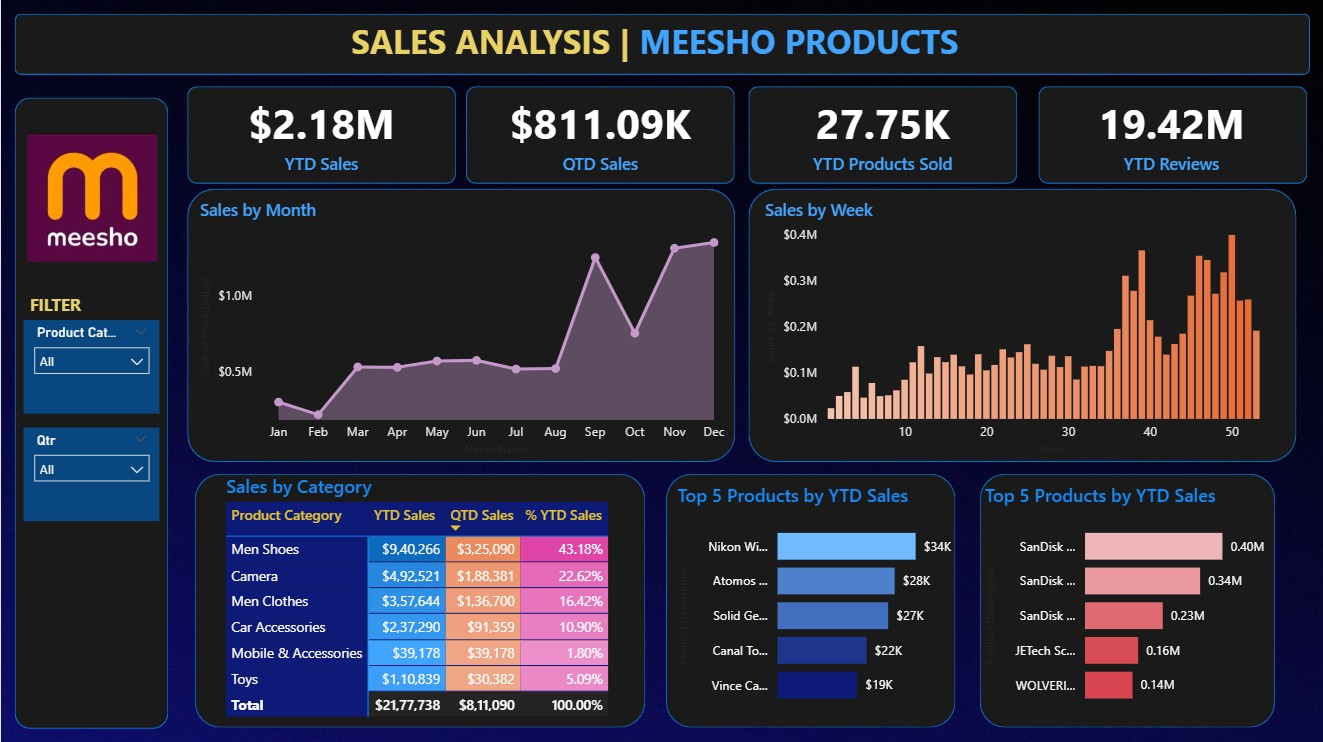

What the dashboard file says about the page in this screenshot:
{"tool":"powerbi","page":{"name":"Page 1","canvas":[1280,720],"ordinal":0},"visuals":[{"type":"shape","box":[179.6,82.7,259.4,94.1],"z":0,"group":"g1"},{"type":"shape","box":[13.7,13.7,1250.1,59],"z":0},{"type":"shape","box":[449,82.7,259.4,94.1],"z":1000,"group":"g1"},{"type":"textbox","box":[333,13.3,640.6,59.1],"z":1000},{"type":"card","fields":{"Values":["Amazon_Data.YTD Sales"]},"box":[186.7,89.1,245.2,80.1],"z":2000,"group":"g1"},{"type":"shape","box":[13.7,94.7,148.2,609.3],"z":2000},{"type":"shape","box":[721.2,82.7,259.4,94.1],"z":3000,"group":"g1"},{"type":"group","id":"g1","title":"Group 1","box":[179.6,82.7,1080.4,94.1],"z":3000},{"type":"shape","box":[1000.6,82.7,259.4,94.1],"z":4000,"group":"g1"},{"type":"shape","box":[179.6,182.4,528.8,263.7],"z":4000},{"type":"card","fields":{"Values":["Amazon_Data.QTD Sales"]},"box":[456.1,89.1,245.2,80.1],"z":5000,"group":"g1"},{"type":"areaChart","title":"Sales by Month","fields":{"Category":["Date Table.Month Name"],"Y":["Sum(Amazon_Data.Price(Dollar))"]},"box":[186.7,191,521.7,253.7],"z":5000},{"type":"card","fields":{"Values":["Amazon_Data.YTD Products Sold"]},"box":[728.4,89.1,245.2,80.1],"z":6000,"group":"g1"},{"type":"shape","box":[721.2,182.4,528.8,263.7],"z":6000},{"type":"card","fields":{"Values":["Amazon_Data.YTD Reviews"]},"box":[1007.8,89.1,245.2,80.1],"z":7000,"group":"g1"},{"type":"columnChart","title":"Sales by Week","fields":{"Category":["Date Table.Week"],"Y":["Sum(Amazon_Data.Price(Dollar))"]},"box":[732.7,191,507.4,253.7],"z":7000},{"type":"shape","box":[186.7,457.6,434.7,245.2],"z":8000},{"type":"pivotTable","title":"Sales by Category","fields":{"Rows":["Amazon_Data.Product Category"],"Values":["Amazon_Data.YTD Sales1","Amazon_Data.QTD Sales","Amazon_Data.YTD Sales"]},"box":[212.4,457.6,400.5,245.2],"z":9000},{"type":"shape","box":[641.4,457.6,279.4,245.2],"z":10000},{"type":"shape","box":[945,457.6,285.1,245.2],"z":11000},{"type":"clusteredBarChart","title":"Top 5 Products by YTD Sales","fields":{"Category":["Amazon_Data.Product Description"],"Y":["Amazon_Data.YTD Sales"]},"box":[647.9,465.7,284.7,228],"z":12000},{"type":"clusteredBarChart","title":"Top 5 Products by YTD Sales","fields":{"Category":["Amazon_Data.Product Description"],"Y":["Amazon_Data.YTD Reviews"]},"box":[944.6,465.7,284.7,228],"z":13000},{"type":"slicer","fields":{"Values":["Amazon_Data.Product Category"]},"box":[21.7,308.8,131.5,90.5],"z":14000},{"type":"slicer","fields":{"Values":["Date Table.Qtr"]},"box":[21.7,412.6,131.5,90.5],"z":15000},{"type":"textbox","box":[22.9,277.5,98.9,31.4],"z":17000},{"type":"image","box":[20.5,123.1,135.1,135.1],"z":17001}]}

Visuals, with their boxes in screenshot pixels (x1, y1, x2, y2), scaled from the page's 1280x720 canvas onto the 1323x742 screenshot:
shape: [186,85,454,182]
shape: [14,14,1306,75]
shape: [464,85,732,182]
textbox: [344,14,1006,75]
card - Amazon_Data.YTD Sales: [193,92,446,174]
shape: [14,98,167,726]
shape: [745,85,1014,182]
"Group 1" group: [186,85,1302,182]
shape: [1034,85,1302,182]
shape: [186,188,732,460]
card - Amazon_Data.QTD Sales: [471,92,725,174]
"Sales by Month" areaChart: [193,197,732,458]
card - Amazon_Data.YTD Products Sold: [753,92,1006,174]
shape: [745,188,1292,460]
card - Amazon_Data.YTD Reviews: [1042,92,1295,174]
"Sales by Week" columnChart: [757,197,1282,458]
shape: [193,472,642,724]
"Sales by Category" pivotTable: [220,472,633,724]
shape: [663,472,952,724]
shape: [977,472,1271,724]
"Top 5 Products by YTD Sales" clusteredBarChart: [670,480,964,715]
"Top 5 Products by YTD Sales" clusteredBarChart: [976,480,1271,715]
slicer - Amazon_Data.Product Category: [22,318,158,412]
slicer - Date Table.Qtr: [22,425,158,518]
textbox: [24,286,126,318]
image: [21,127,161,266]
